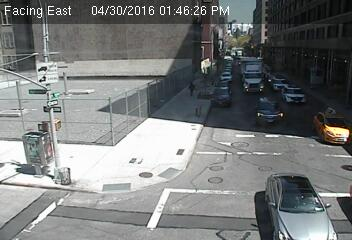neg: (186, 105, 205, 129), (212, 46, 224, 63)
pos: (183, 76, 200, 98)
